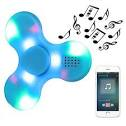fidget_kid_spinner_toys: (1, 14, 86, 110)
